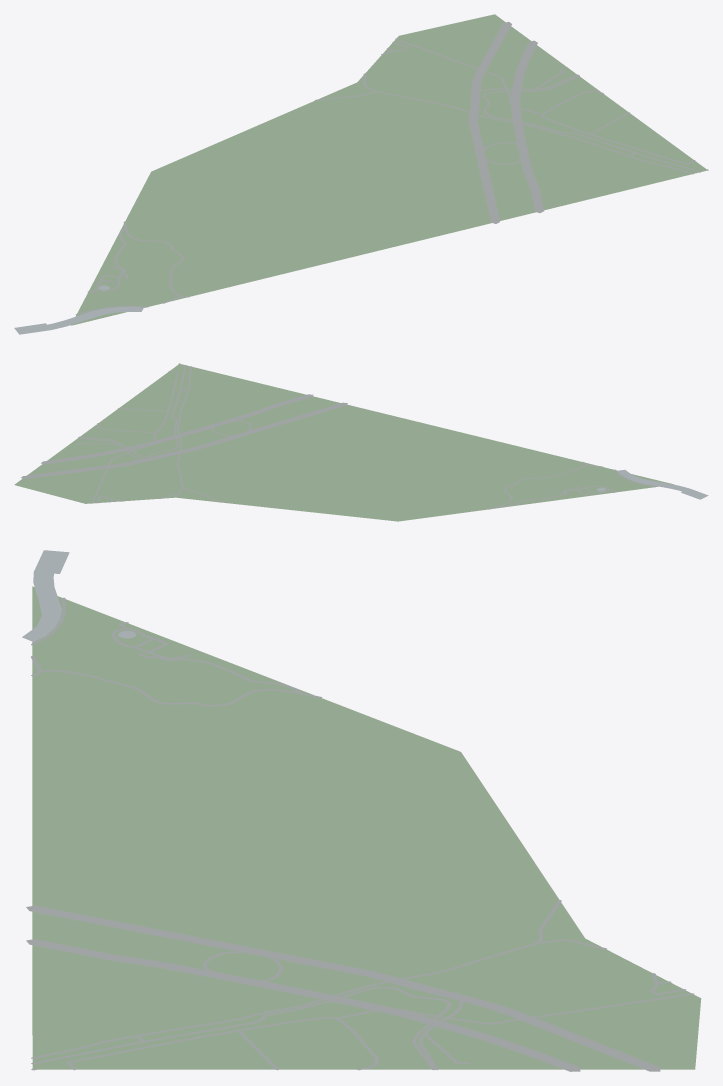
File: 12_7-known-coarse.glb
3 views of the same model, one above another, from view 1: azimuth 30°, elevation 25°; view 2: azimuth 150°, elevation 25°; view 3: azimuth 270°, elevation 25° (orthographic). The views are drawn at different scales.
Bounding box in the file's own units: 1020 × 0.15 × 562.
